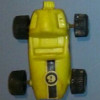amarillo_sur: (11, 2, 86, 99)
